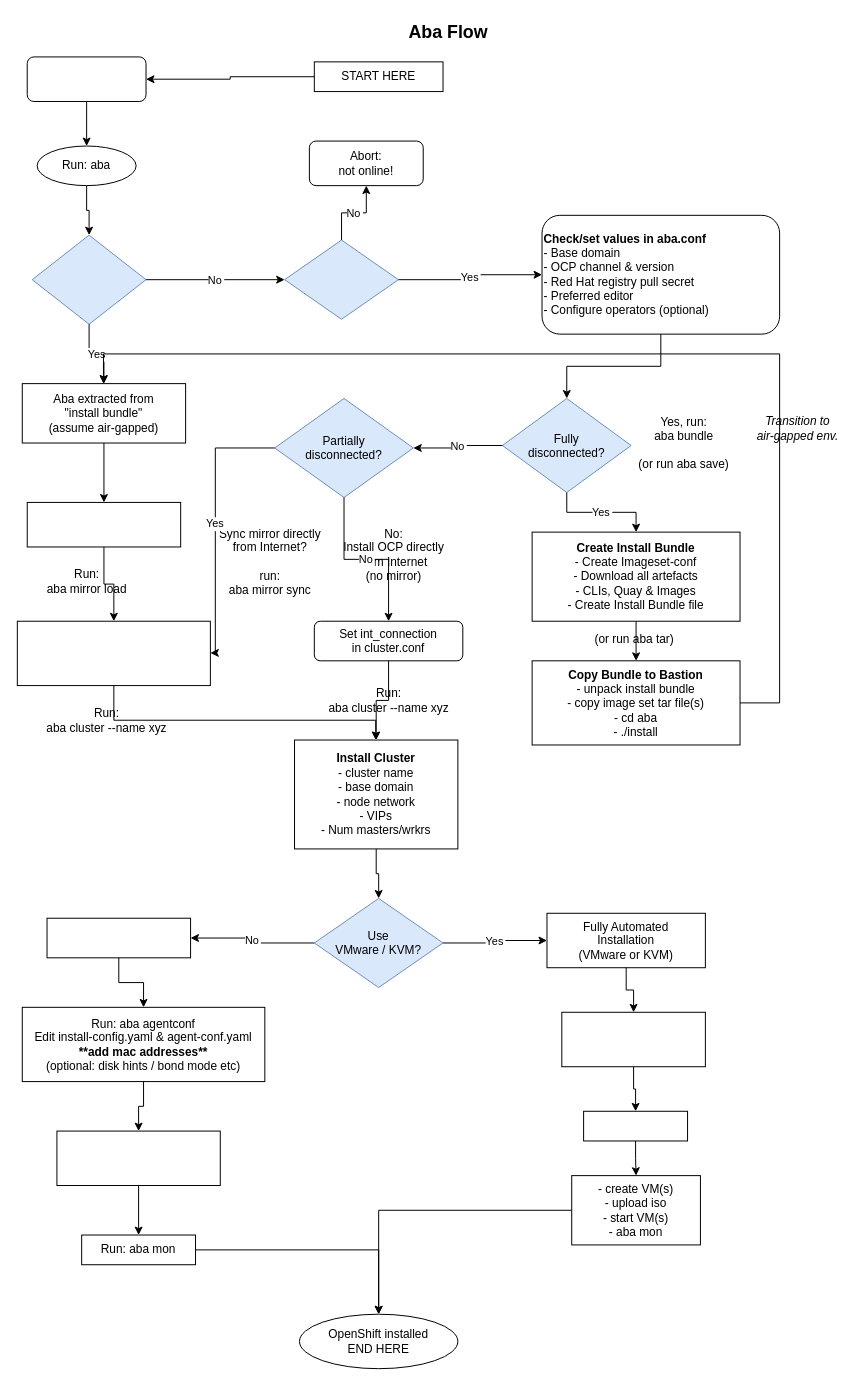
Image size: 861x1386. Some labels were removed from this diagram. Each missing label, with the box of its shape:
- Install aba - cd aba: (26, 56, 146, 101)
Check online?: (284, 239, 398, 319)
Configure aba.conf - Check/edit aba.conf: (26, 501, 181, 547)
Configure Mirror & Load - Configure mirror registry - Registry (images loaded): (16, 620, 210, 686)
Configure VMW API (VC or ESXi) or KVM (libvirt): (561, 1011, 705, 1067)
Install OCP: (583, 1110, 688, 1141)
Install OCP on Bare-metal: (46, 917, 191, 958)
Is Install Bundle?: (31, 234, 146, 324)
Run: aba iso Boot server(s) with iso: (56, 1130, 220, 1186)
